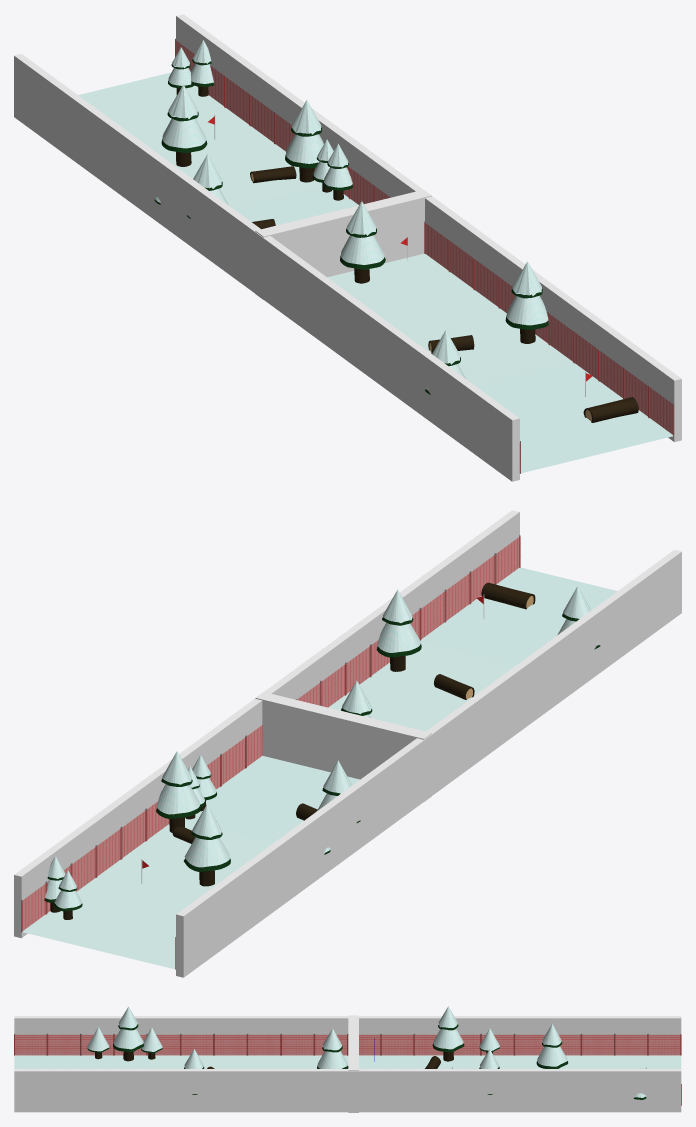
The picture shows the model from 3 angles, top to bottom: view 1: azimuth 30°, elevation 25°; view 2: azimuth 150°, elevation 25°; view 3: azimuth 270°, elevation 25°; orthographic projection. The views are drawn at different scales.
Visible parts, largest first — view 1: Floor.002, Cube.001, Cube.004, Cube.002, Floor.001, Fence.001, Cube.003, Generate.001, Pinetree2.025, Pinetree2.011, Pinetree2.007, Pinetree2.016 (+6 smaller); view 2: Floor.001, Cube.004, Cube.001, Floor.002, Cube.003, Cube.002, Fence.001, Generate.001, Pinetree2.025, Pinetree2.007, Pinetree2.016, Log.001 (+3 smaller); view 3: Cube.002, Cube.003, Fence.002, Cube.004, Cube.001, Floor.002, Floor.001, Pinetree2.015, Pinetree2.004, Pinetree2.025, Pinetree2.011, Generate.001 (+5 smaller).
Boxes of the visible parts, bbox=[...] form: Floor.002: bbox=[327, 254, 673, 473]; Cube.001: bbox=[257, 233, 519, 481]; Cube.004: bbox=[14, 53, 276, 294]; Cube.002: bbox=[425, 196, 681, 442]; Floor.001: bbox=[78, 72, 358, 225]; Fence.001: bbox=[175, 38, 674, 435]; Cube.003: bbox=[176, 14, 431, 257]; Generate.001: bbox=[255, 189, 431, 299]; Pinetree2.025: bbox=[161, 84, 207, 166]; Pinetree2.011: bbox=[340, 201, 385, 283]; Pinetree2.007: bbox=[505, 261, 548, 343]; Pinetree2.016: bbox=[285, 100, 323, 182]; Floor.001: bbox=[22, 755, 359, 969]; Cube.004: bbox=[176, 729, 438, 977]; Cube.001: bbox=[426, 549, 681, 790]; Floor.002: bbox=[328, 567, 617, 731]; Cube.003: bbox=[14, 688, 275, 938]; Cube.002: bbox=[270, 510, 519, 707]; Fence.001: bbox=[21, 535, 520, 932]; Generate.001: bbox=[255, 692, 431, 801]; Pinetree2.025: bbox=[184, 804, 230, 886]; Pinetree2.007: bbox=[376, 589, 421, 671]; Pinetree2.016: bbox=[156, 751, 200, 832]; Log.001: bbox=[481, 582, 535, 609]; Cube.002: bbox=[14, 1069, 355, 1112]; Cube.003: bbox=[339, 1069, 681, 1112]; Fence.002: bbox=[14, 1033, 681, 1055]; Cube.004: bbox=[339, 1016, 681, 1054]; Cube.001: bbox=[14, 1016, 348, 1054]; Floor.002: bbox=[14, 1055, 348, 1068]; Floor.001: bbox=[359, 1055, 681, 1068]; Pinetree2.015: bbox=[432, 1006, 464, 1061]; Pinetree2.004: bbox=[113, 1006, 143, 1061]; Pinetree2.025: bbox=[536, 1024, 568, 1068]; Pinetree2.011: bbox=[317, 1028, 348, 1068]; Generate.001: bbox=[348, 1015, 358, 1112].
Size of the model in its own units: 22.36 by 10.62 by 111.
23 materials, 22 textured.
